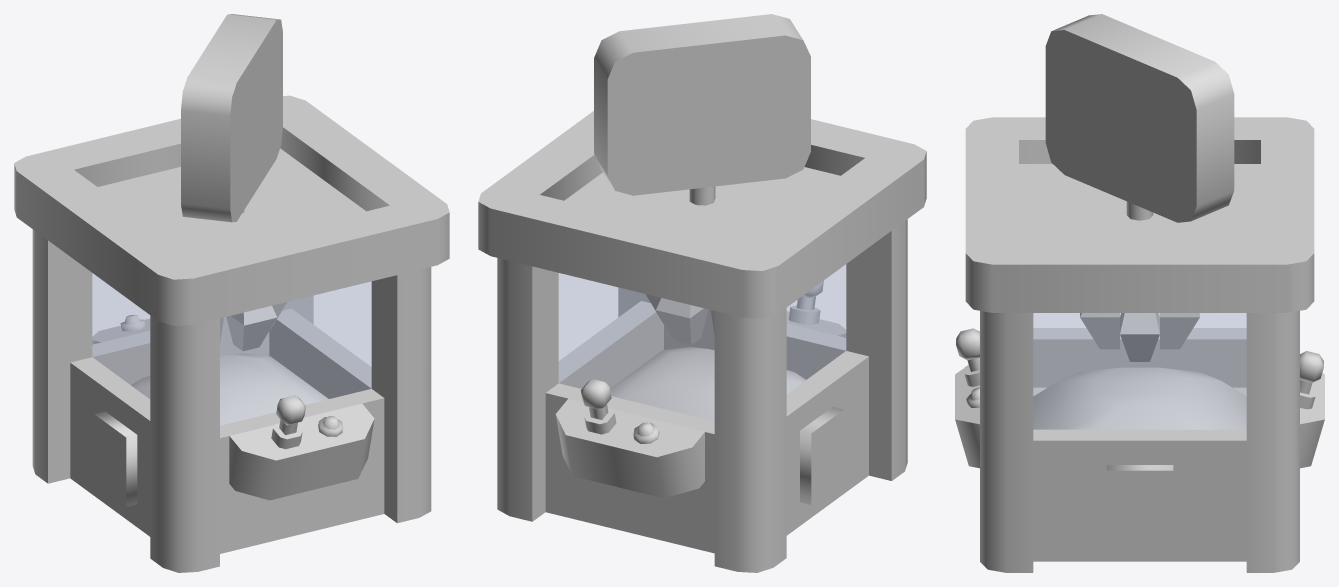
The model's file is claw-machine.glb.
3 views of the same model, side by side, from view 1: azimuth 30°, elevation 25°; view 2: azimuth 150°, elevation 25°; view 3: azimuth 270°, elevation 25° (orthographic). The views are drawn at different scales.
Parts seen in each view (by area): view 1: claw-machine, (%ignore), rotate-y; view 2: claw-machine, rotate-y, (%ignore); view 3: claw-machine, rotate-y, (%ignore).
Part boxes in pixels (x1,y1,x2,y2): claw-machine: (14,95,449,572); (%ignore): (92,273,371,425); rotate-y: (181,14,282,222); claw-machine: (478,111,926,572); rotate-y: (594,14,810,195); (%ignore): (558,264,846,420); claw-machine: (955,117,1324,572); rotate-y: (1045,14,1234,222); (%ignore): (1033,313,1246,429).
Bounding box in the file's own units: 0.653 × 0.95 × 0.6932.
